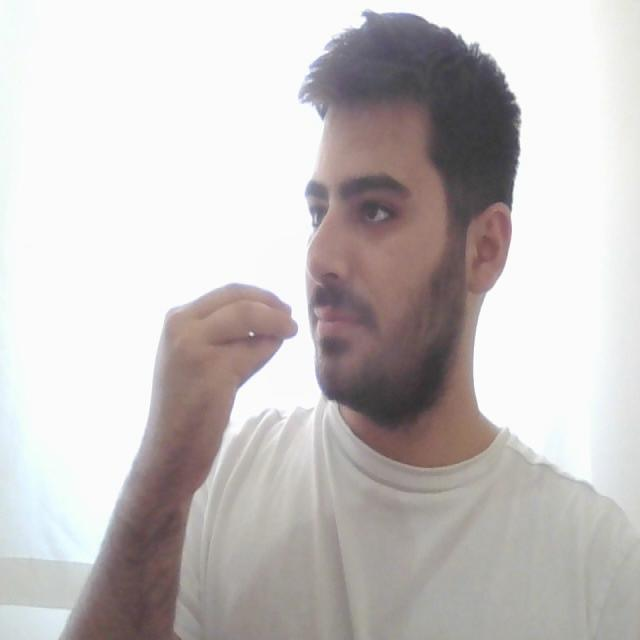Yemek: (156, 280, 365, 360)
